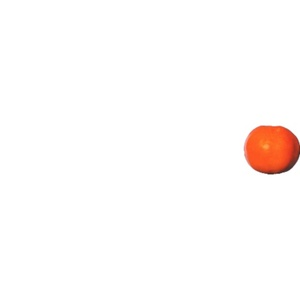tangerina: (244, 123, 299, 175)
